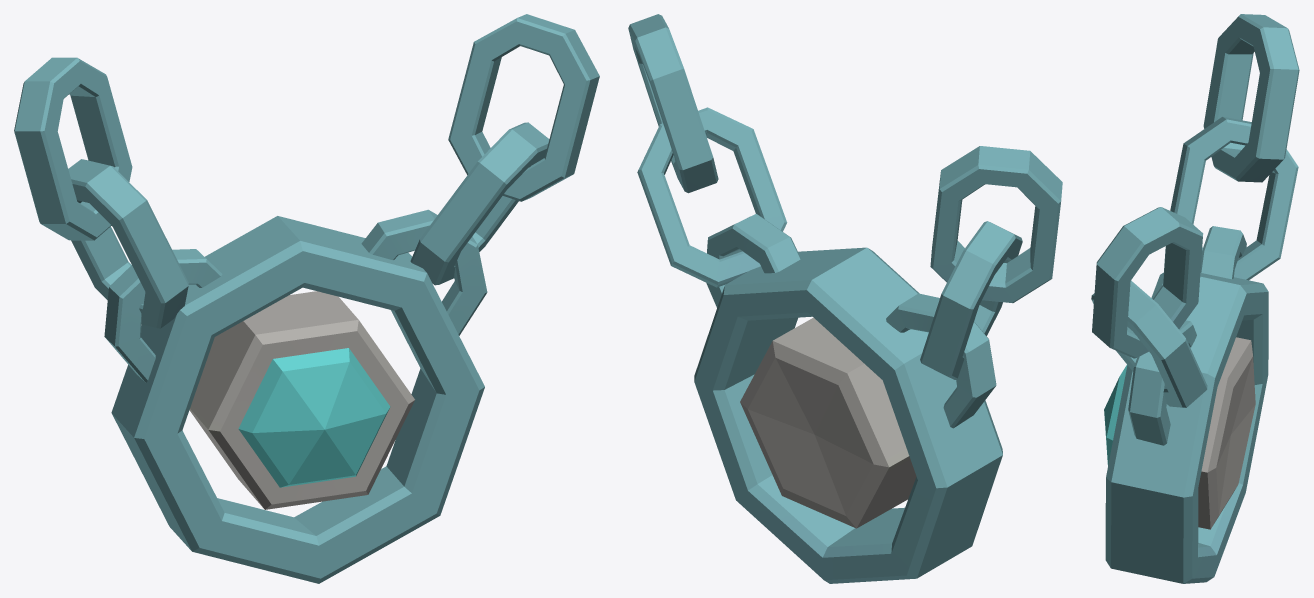
File: amuletBlued.fbx
3 renders of one model, left to right at view 1: azimuth 30°, elevation 25°; view 2: azimuth 150°, elevation 25°; view 3: azimuth 270°, elevation 25°, orthographic. The views are drawn at different scales.
Visible parts, largest first — view 1: amuletBlued; view 2: amuletBlued; view 3: amuletBlued.
Part boxes in pixels (x1,y1,x2,y2): amuletBlued: (14, 14, 599, 583); amuletBlued: (628, 14, 1062, 583); amuletBlued: (1091, 14, 1299, 583).
Size of the model in its own units: 1.96 by 1.91 by 0.7608.
Materials: 1 (1 with a texture image).
